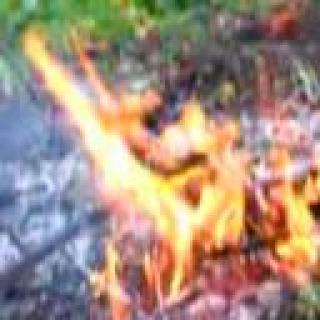fire: (69, 33, 290, 294), (251, 129, 320, 279)
